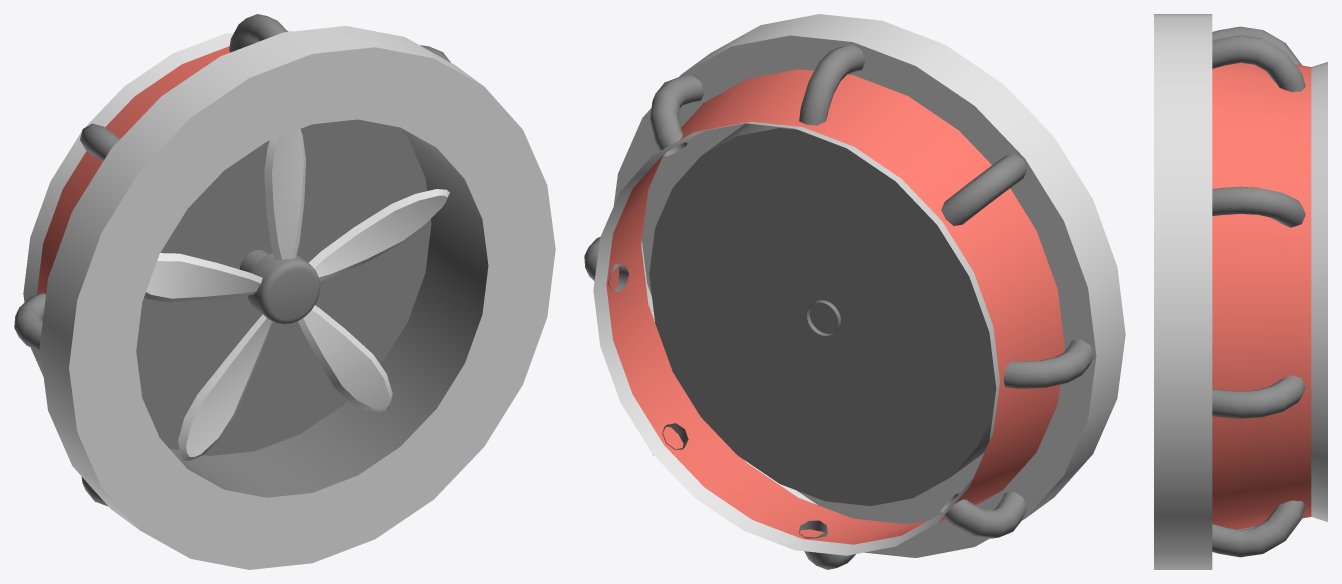
The model's file is propeller_futuristic_2.fbx.
3 views of the same model, side by side, from view 1: azimuth 30°, elevation 25°; view 2: azimuth 150°, elevation 25°; view 3: azimuth 270°, elevation 25° (orthographic).
Parts seen in each view (by area): view 1: propeller_futuristic_2; view 2: propeller_futuristic_2; view 3: propeller_futuristic_2.
Boxes of the visible parts, x1,y1,x2,y2 form: propeller_futuristic_2: (14,14,555,569); propeller_futuristic_2: (584,14,1125,569); propeller_futuristic_2: (1154,14,1327,569).
Size of the model in its own units: 185 by 185 by 56.98.
